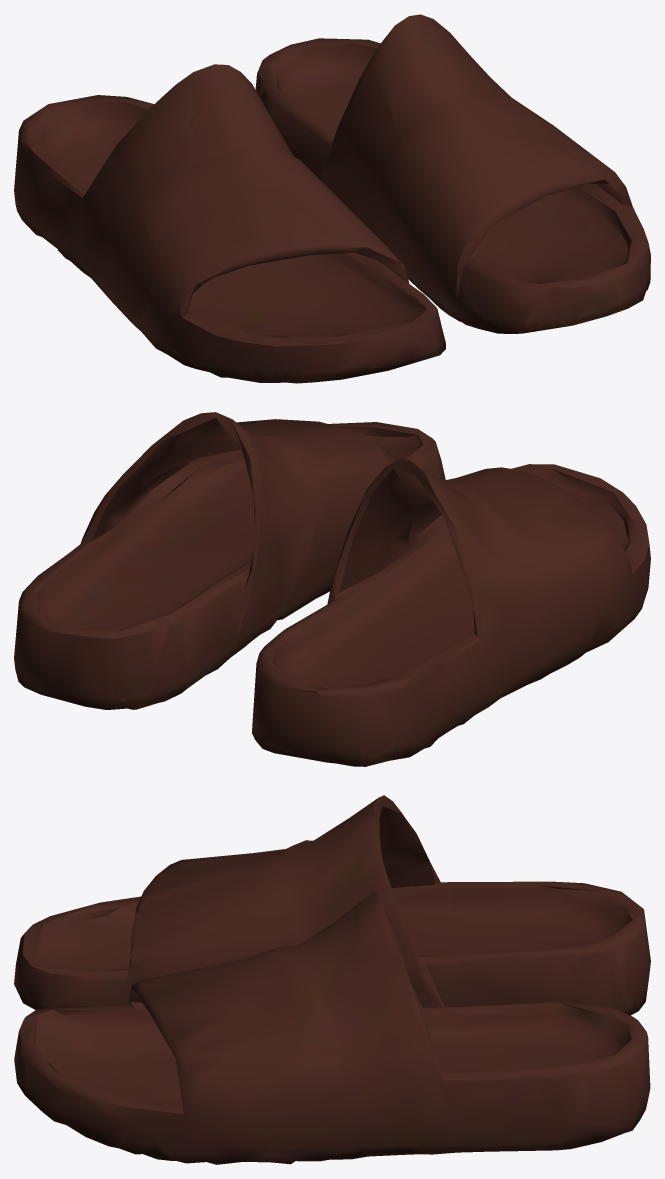
File: sandals.glb
3 views of the same model, one above another, from view 1: azimuth 30°, elevation 25°; view 2: azimuth 150°, elevation 25°; view 3: azimuth 270°, elevation 25° (orthographic).
Visible parts, largest first — view 1: sandals; view 2: sandals; view 3: sandals.
Boxes of the visible parts, left/top/right/bottom form: sandals: left=14, top=14, right=650, bottom=383; sandals: left=14, top=412, right=650, bottom=766; sandals: left=14, top=795, right=650, bottom=1164.
Size of the model in its own units: 0.231 by 0.1 by 0.2711.
Materials: 1 (1 with a texture image).
